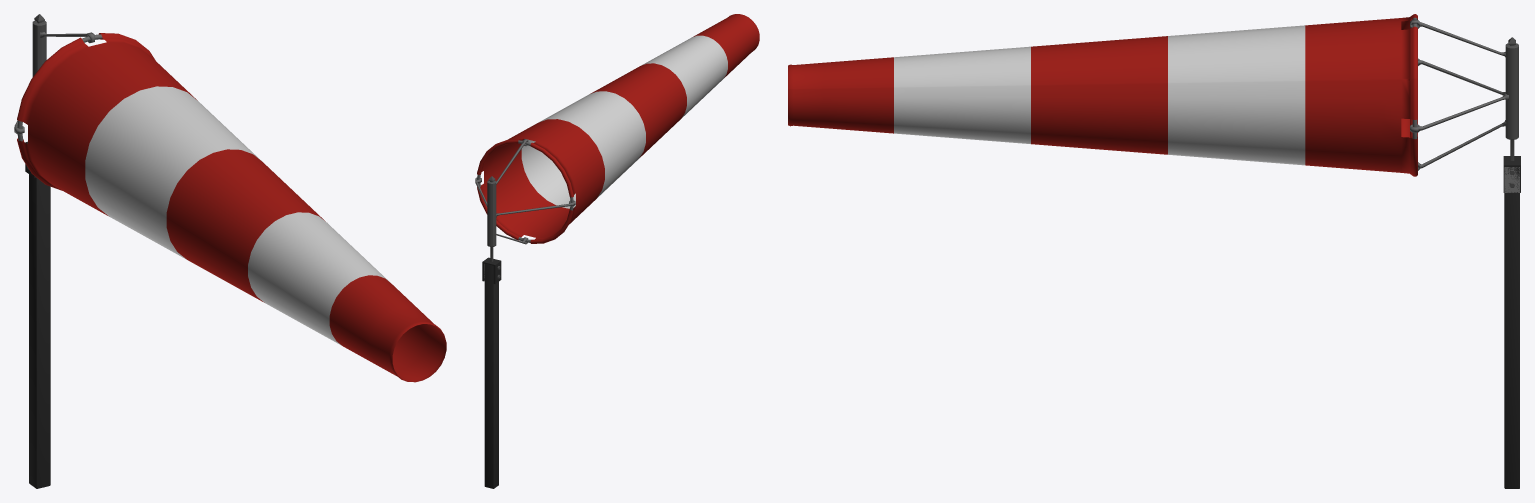
The model's file is jg_windsock.fbx.
The picture shows the model from 3 angles, left to right: view 1: azimuth 30°, elevation 25°; view 2: azimuth 150°, elevation 25°; view 3: azimuth 270°, elevation 25°; orthographic projection. The views are drawn at different scales.
Visible parts, largest first — view 1: windsock8, windsock, windsock7; view 2: windsock8, windsock, windsock7; view 3: windsock8, windsock, windsock7.
Part boxes in pixels (bbox=[...]): windsock8: bbox=[17, 33, 446, 382]; windsock: bbox=[29, 174, 50, 488]; windsock7: bbox=[32, 14, 46, 76]; windsock8: bbox=[477, 14, 759, 243]; windsock: bbox=[484, 264, 498, 488]; windsock7: bbox=[487, 176, 496, 261]; windsock8: bbox=[788, 14, 1417, 176]; windsock: bbox=[1504, 193, 1519, 488]; windsock7: bbox=[1505, 37, 1518, 160].
Size of the model in its own units: 2.1 by 6.55 by 9.35.
